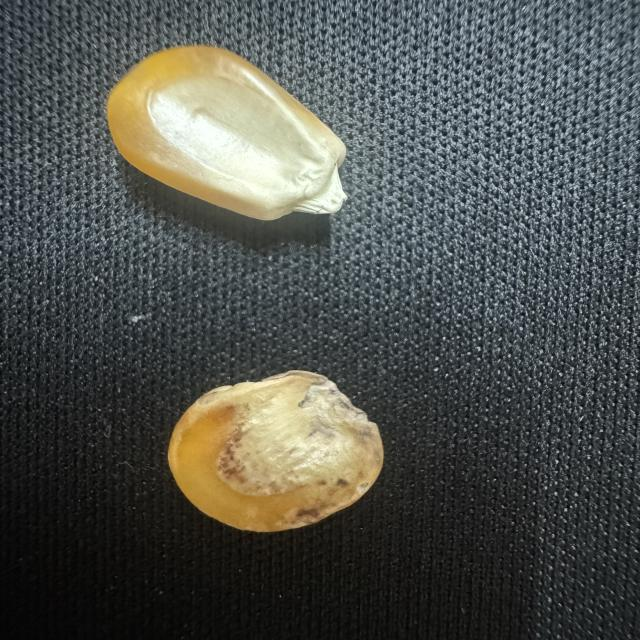Bad-Seed: (164, 368, 388, 534)
Good-Seed: (99, 39, 352, 227)
